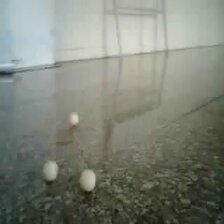tennis: (164, 102, 187, 133), (1, 64, 18, 87), (81, 74, 96, 95), (87, 54, 99, 70)
